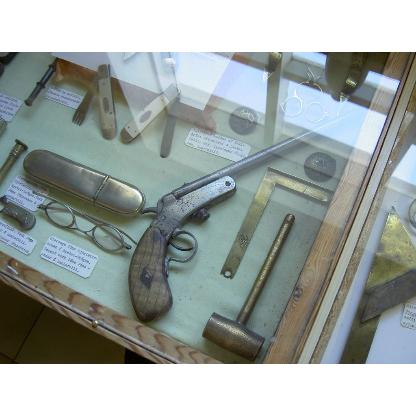gun: (128, 108, 362, 320)
